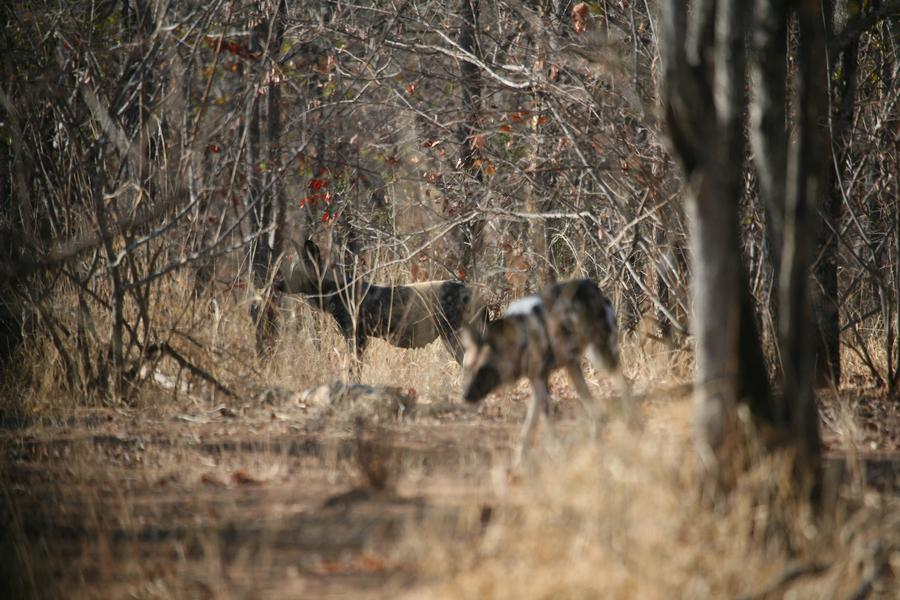wilddog: (483, 281, 606, 401), (296, 275, 475, 343)
